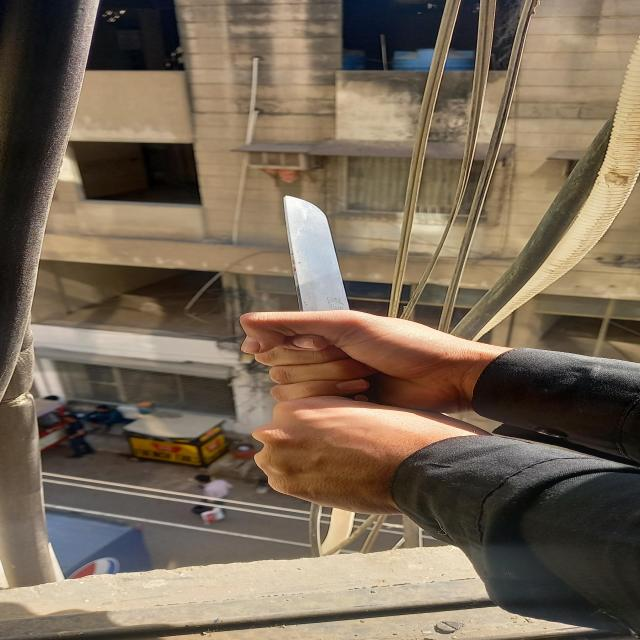weapon: (287, 196, 350, 310)
